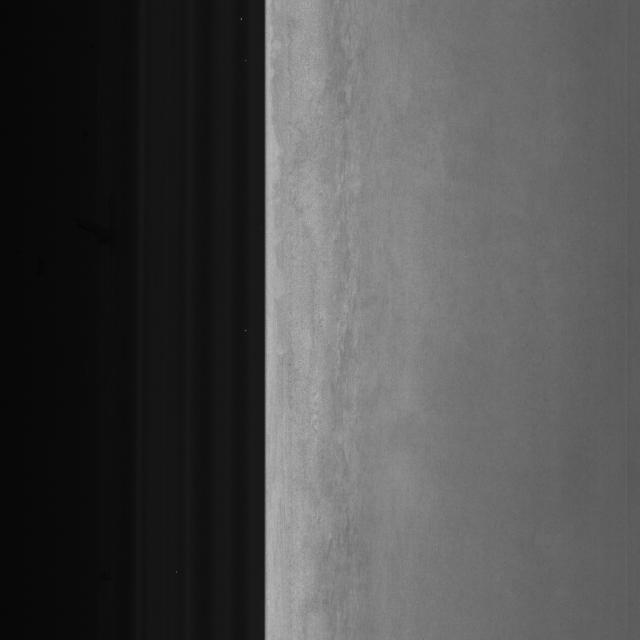inclusion: (318, 90, 398, 621)
